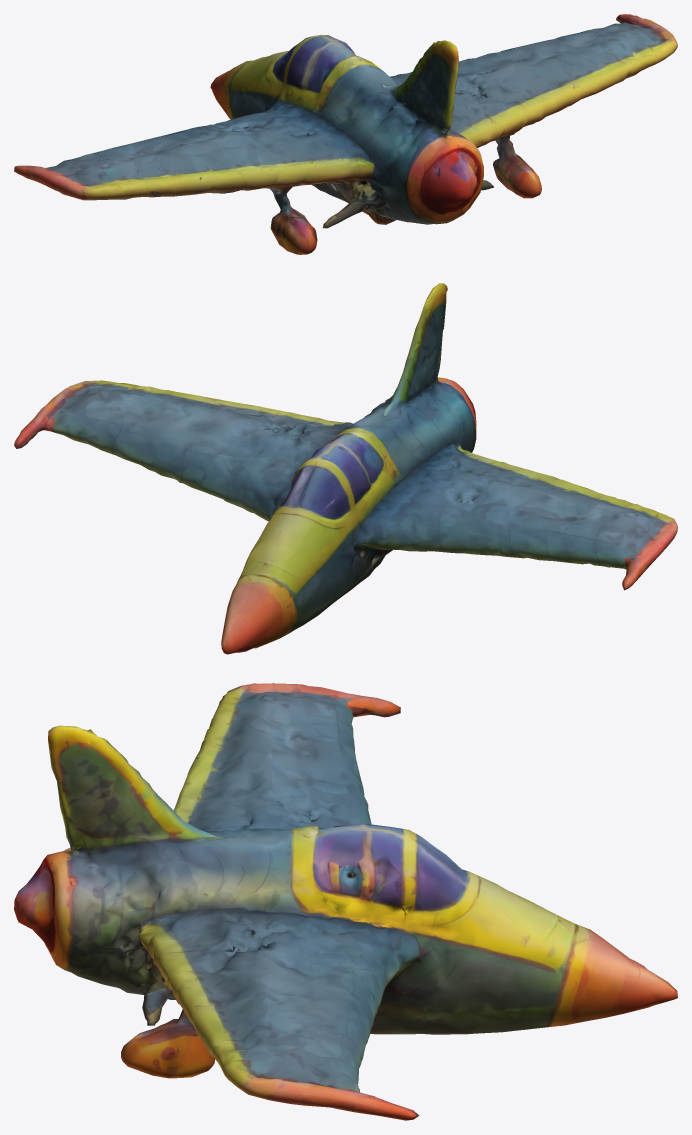
File: Battle_plane_fighting_0725065901_refine.fbx
The picture shows the model from 3 angles, top to bottom: view 1: azimuth 30°, elevation 25°; view 2: azimuth 150°, elevation 25°; view 3: azimuth 270°, elevation 25°; orthographic projection. The views are drawn at different scales.
Parts seen in each view (by area): view 1: Mesh_0; view 2: Mesh_0; view 3: Mesh_0.
Boxes of the visible parts, box(x1,y1,x2,y2) form: Mesh_0: box(14, 14, 677, 254); Mesh_0: box(14, 283, 677, 654); Mesh_0: box(14, 683, 677, 1120).
Size of the model in its own units: 120 by 42.29 by 82.21.
1 material, 1 textured.
